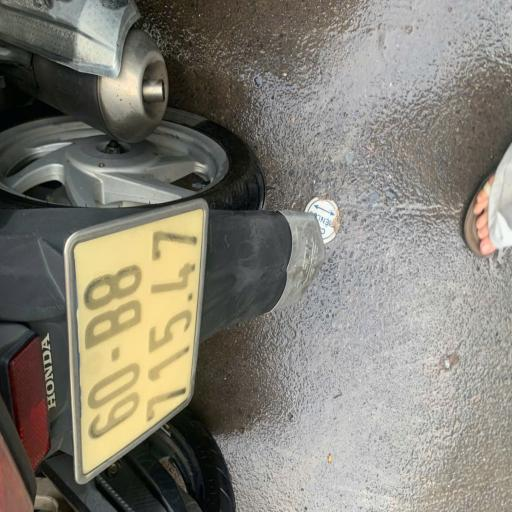0: (83, 362, 143, 404)
1: (146, 346, 202, 389)
4: (150, 261, 206, 304)
5: (145, 304, 202, 356)
6: (84, 392, 142, 445)
7: (139, 385, 202, 427), (144, 222, 200, 264)
8: (74, 262, 149, 311)
B: (78, 301, 148, 353)
